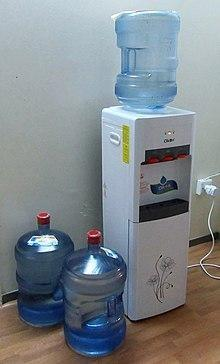Dispenser: (101, 10, 195, 320)
